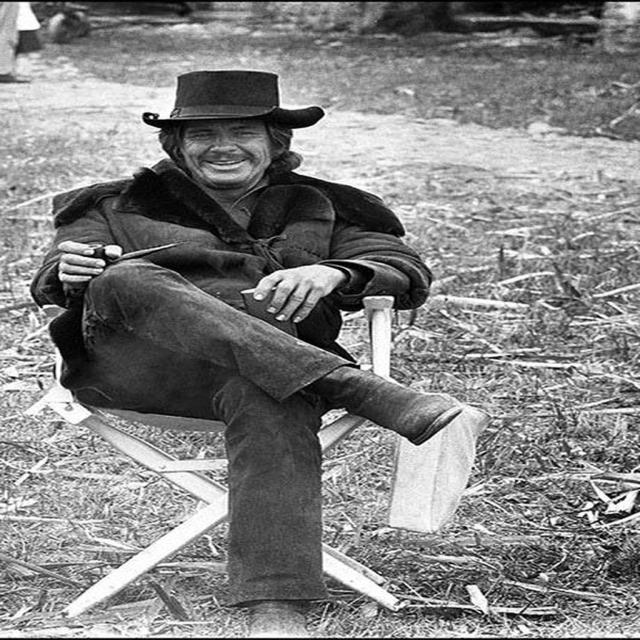smoking: (43, 70, 378, 306)
